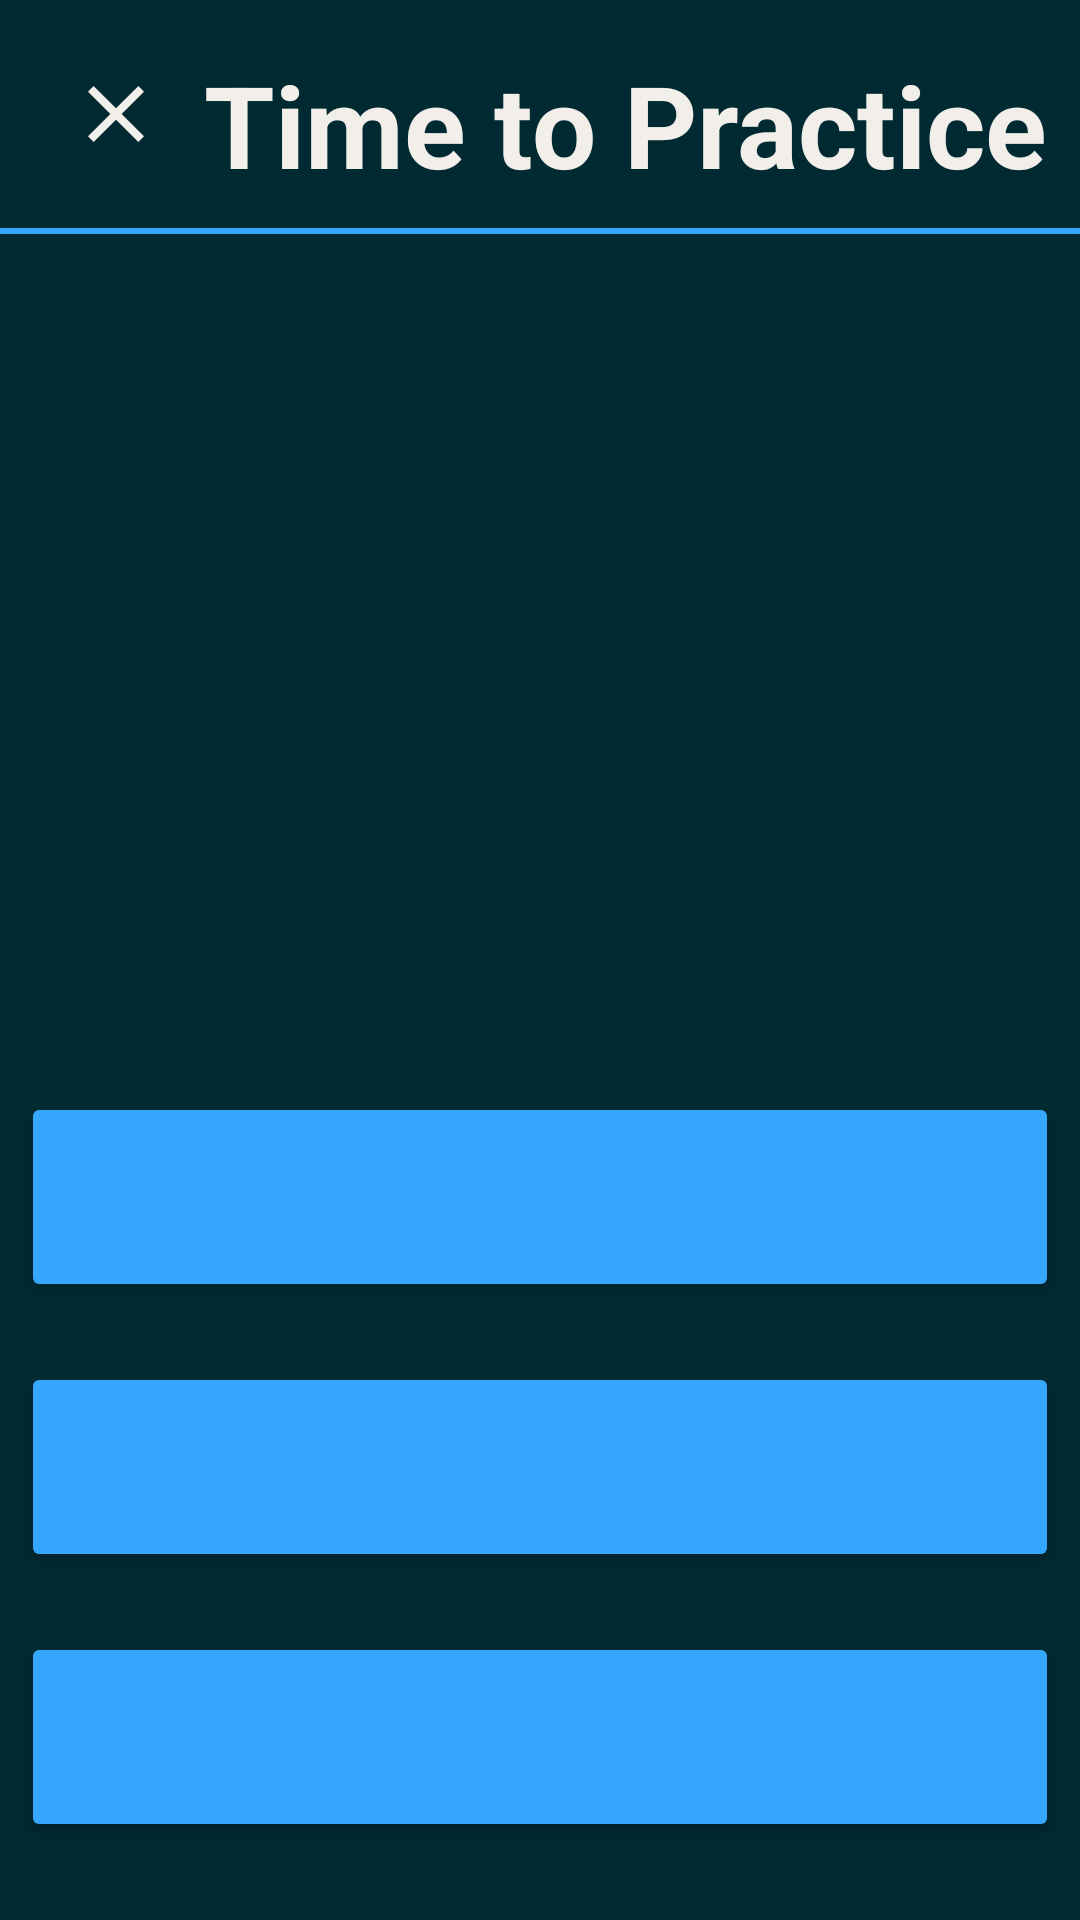

Where icons sit on this 1080*1920 app screen, as {"left": x1, "top": y1, "right": x2, "bottom": y2}:
cross cream: {"left": 88, "top": 86, "right": 144, "bottom": 142}
